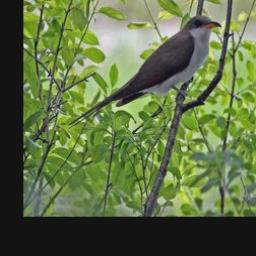Cuckoo: (71, 14, 225, 129)
